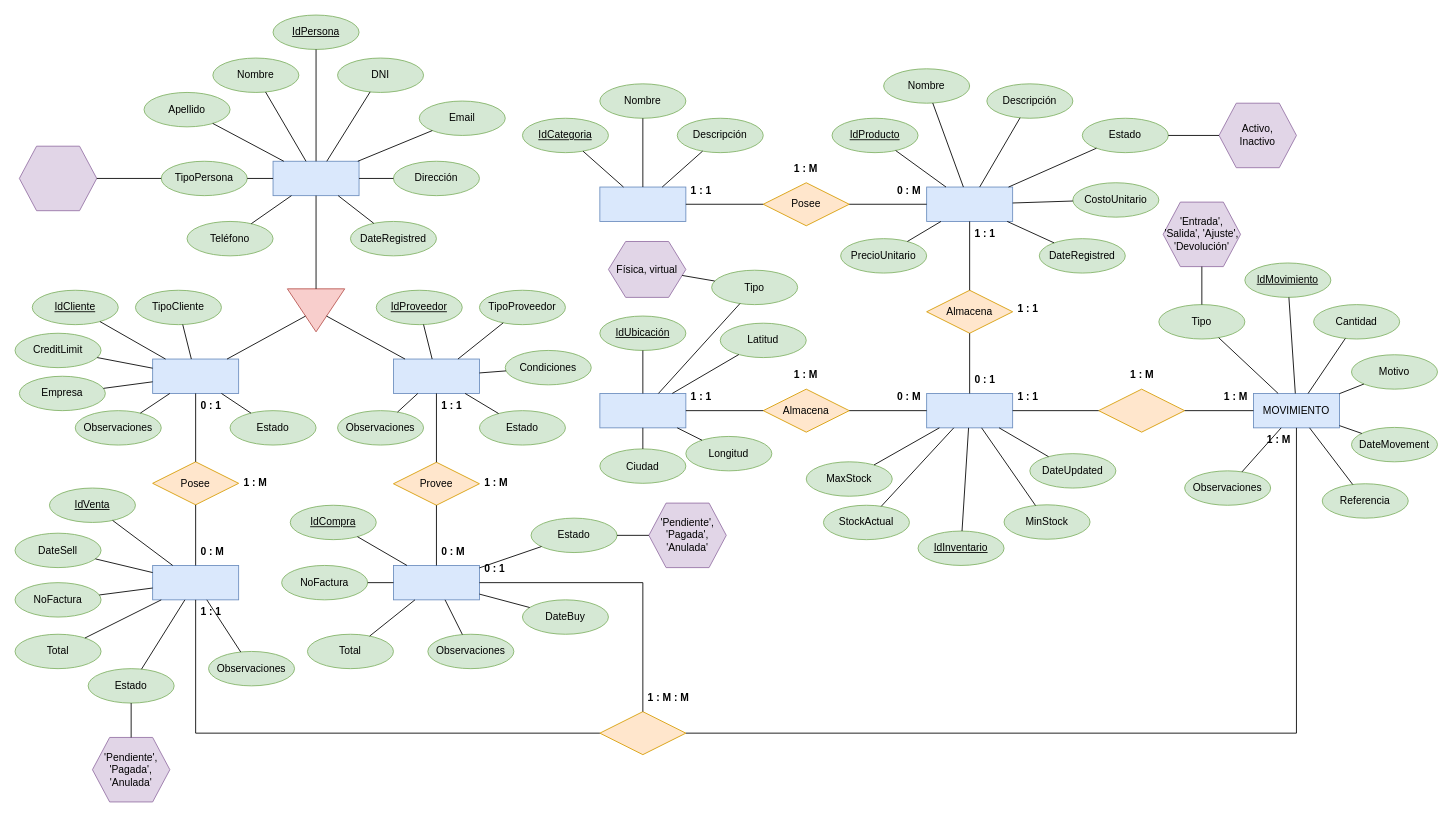
The diagram is 1453 pixels wide and 817 high, and some of its shapes have lost their labels. Here are the shapes that lost their labels. From the top down, the box of each, then its label:
(18, 145, 97, 211): Cliente, Proveedor
(272, 160, 359, 196): PERSONA
(599, 186, 686, 221): CATEGORÍA
(926, 186, 1013, 221): PRODUCTO
(152, 358, 239, 393): CLIENTE
(393, 358, 479, 393): PROVEEDOR
(599, 393, 686, 428): UBICACIÓN
(926, 393, 1013, 428): INVENTARIO
(1098, 388, 1185, 432): Tiene
(152, 565, 239, 600): VENTA
(393, 565, 479, 600): COMPRA
(599, 711, 686, 755): Genera
